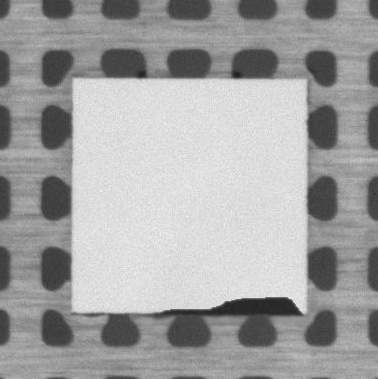DIE_BROKEN: (145, 291, 304, 317)
